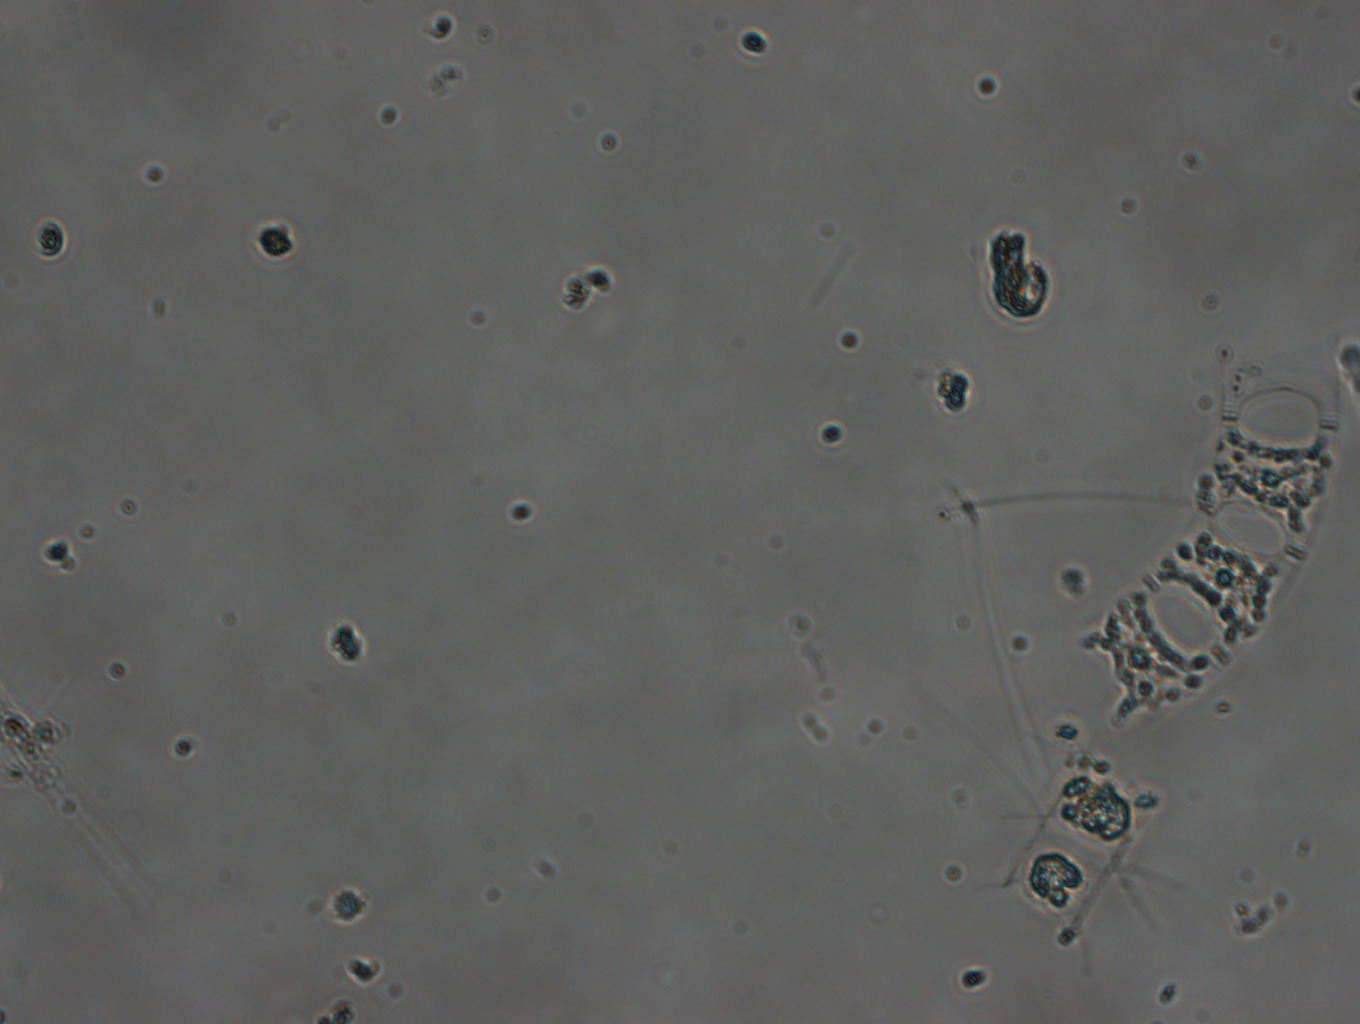chaetoceros: (1000, 757, 1199, 957)
eucampia: (1094, 381, 1338, 720)
